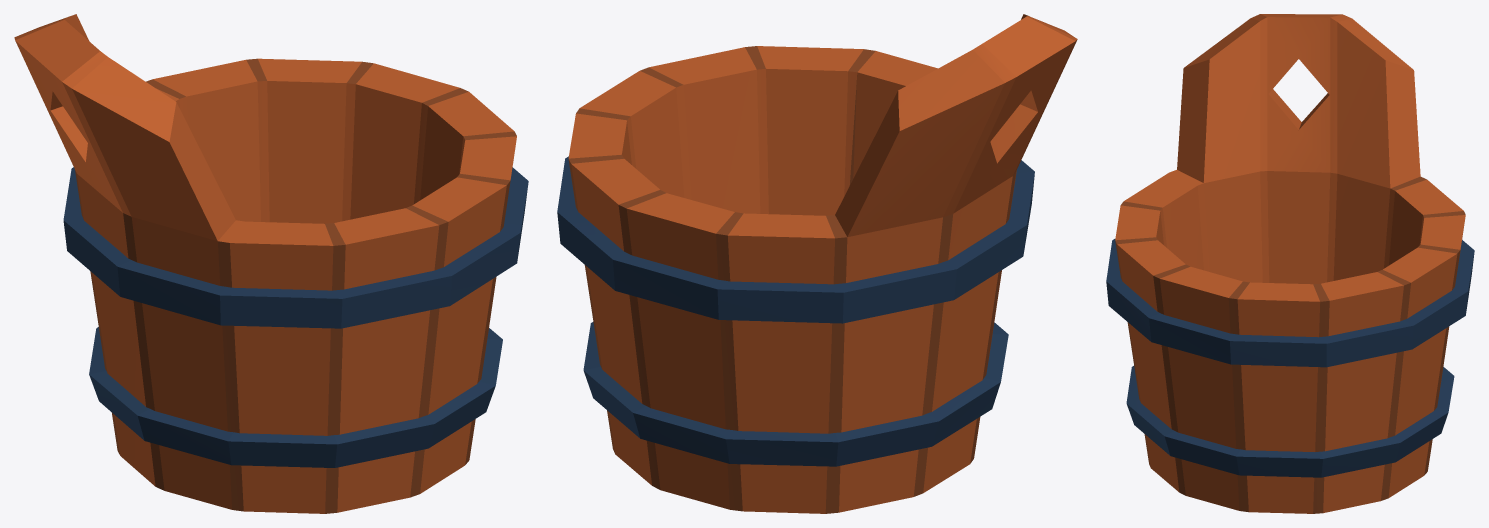
File: small.fbx
The picture shows the model from 3 angles, left to right: view 1: azimuth 30°, elevation 25°; view 2: azimuth 150°, elevation 25°; view 3: azimuth 270°, elevation 25°; orthographic projection. The views are drawn at different scales.
Parts seen in each view (by area): view 1: polySurface2196; view 2: polySurface2196; view 3: polySurface2196.
Part boxes in pixels (bbox=[...]): polySurface2196: bbox=[14, 14, 528, 513]; polySurface2196: bbox=[557, 14, 1077, 513]; polySurface2196: bbox=[1106, 14, 1474, 513].
Size of the model in its own units: 241 by 229 by 214.
